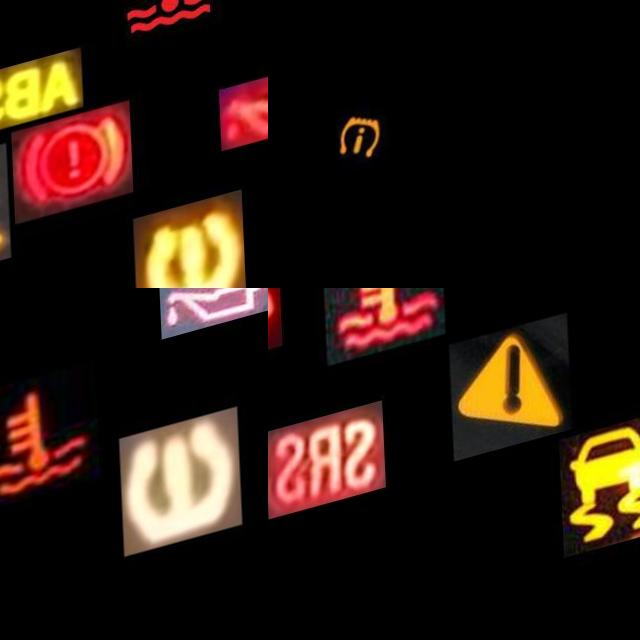Central Warning lamp: (445, 340, 567, 483)
Engine cooling system: (0, 383, 94, 527), (320, 288, 441, 380), (106, 0, 228, 73)
